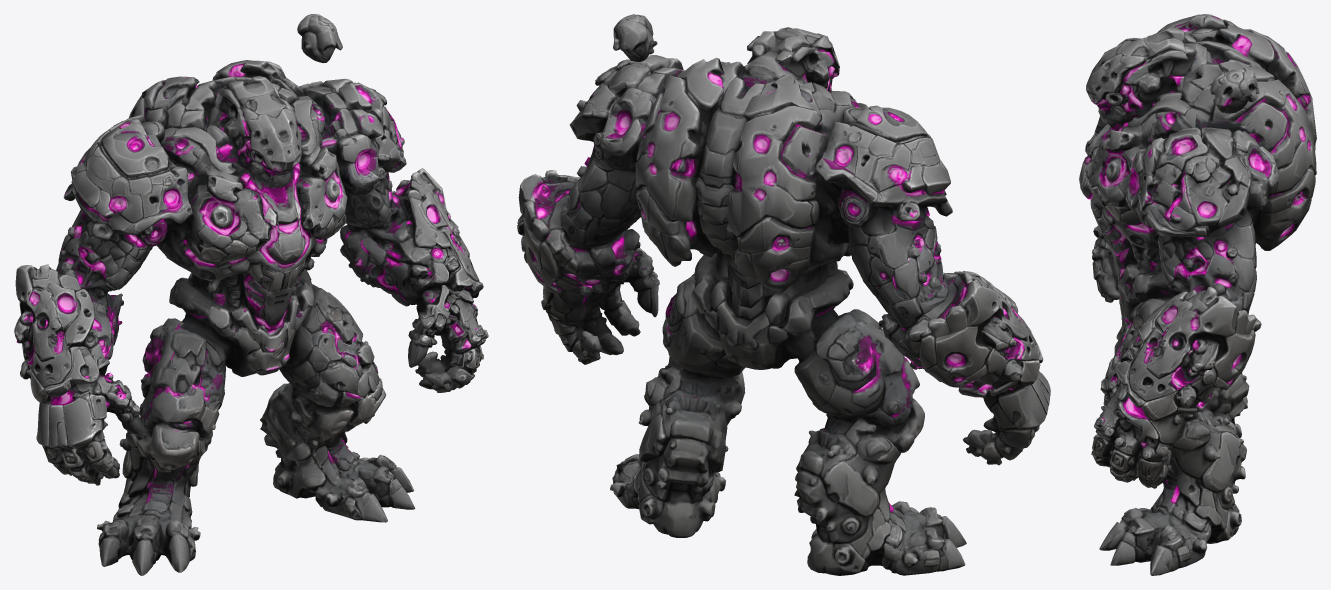
The model's file is Unfinished.fbx.
3 views of the same model, side by side, from view 1: azimuth 30°, elevation 25°; view 2: azimuth 150°, elevation 25°; view 3: azimuth 270°, elevation 25° (orthographic). The views are drawn at different scales.
Parts seen in each view (by area): view 1: UF_Torso, UF_ArmR, UF_ArmL, UF_LegL, UF_LegR, UF_Rock; view 2: UF_Torso, UF_LegR, UF_ArmR, UF_ArmL, UF_LegL, UF_Rock; view 3: UF_Torso, UF_ArmL, UF_LegL, UF_Rock, UF_LegR, UF_ArmR.
Boxes of the visible parts, left/top/right/bottom form: UF_Torso: left=63, top=60, right=406, bottom=396; UF_ArmR: left=14, top=217, right=159, bottom=485; UF_ArmL: left=340, top=168, right=488, bottom=392; UF_LegL: left=260, top=346, right=415, bottom=522; UF_LegR: left=97, top=367, right=274, bottom=575; UF_Rock: left=297, top=14, right=342, bottom=63; UF_Torso: left=569, top=27, right=952, bottom=388; UF_LegR: left=773, top=358, right=966, bottom=575; UF_ArmR: left=851, top=226, right=1050, bottom=465; UF_ArmL: left=517, top=158, right=659, bottom=364; UF_LegL: left=610, top=322, right=745, bottom=537; UF_Rock: left=613, top=14, right=657, bottom=61; UF_Torso: left=1079, top=14, right=1316, bottom=370; UF_ArmL: left=1091, top=226, right=1261, bottom=488; UF_LegL: left=1099, top=358, right=1246, bottom=575; UF_Rock: left=1210, top=68, right=1259, bottom=113; UF_LegR: left=1116, top=295, right=1249, bottom=455; UF_ArmR: left=1092, top=226, right=1119, bottom=302.
Bounding box in the file's own units: 4999 × 4950 × 2216.
1 material, 1 textured.
